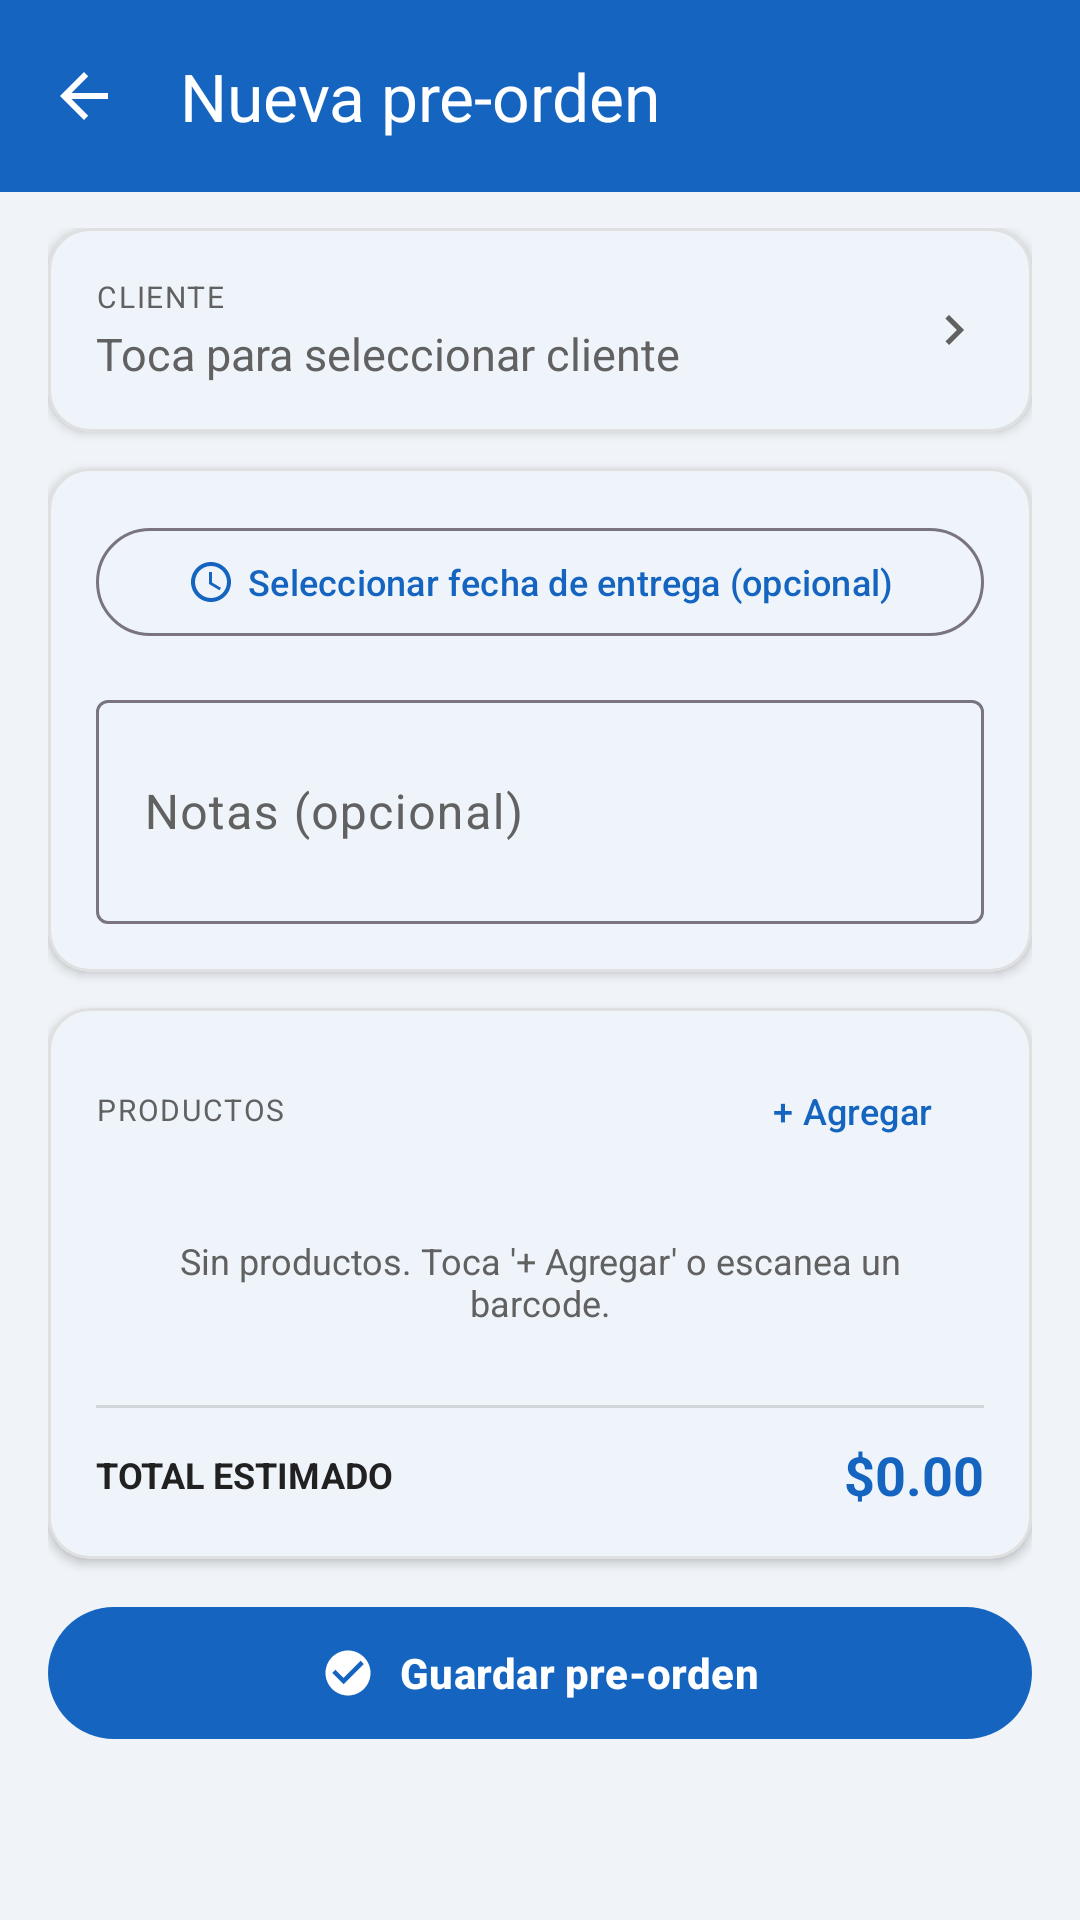

Named icons in this screenshot (1080×1920) and their centers, (x,y):
chevron right: (954,330)
